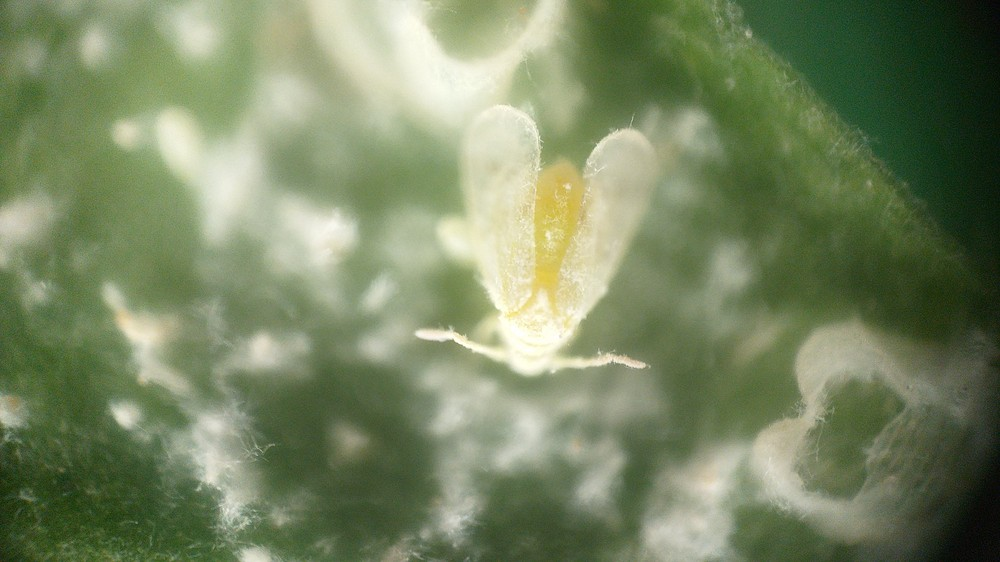Mosca Blanca: (405, 109, 679, 412)
